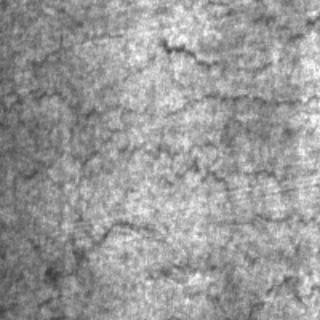crazing: (12, 120, 318, 264), (90, 7, 316, 115)
